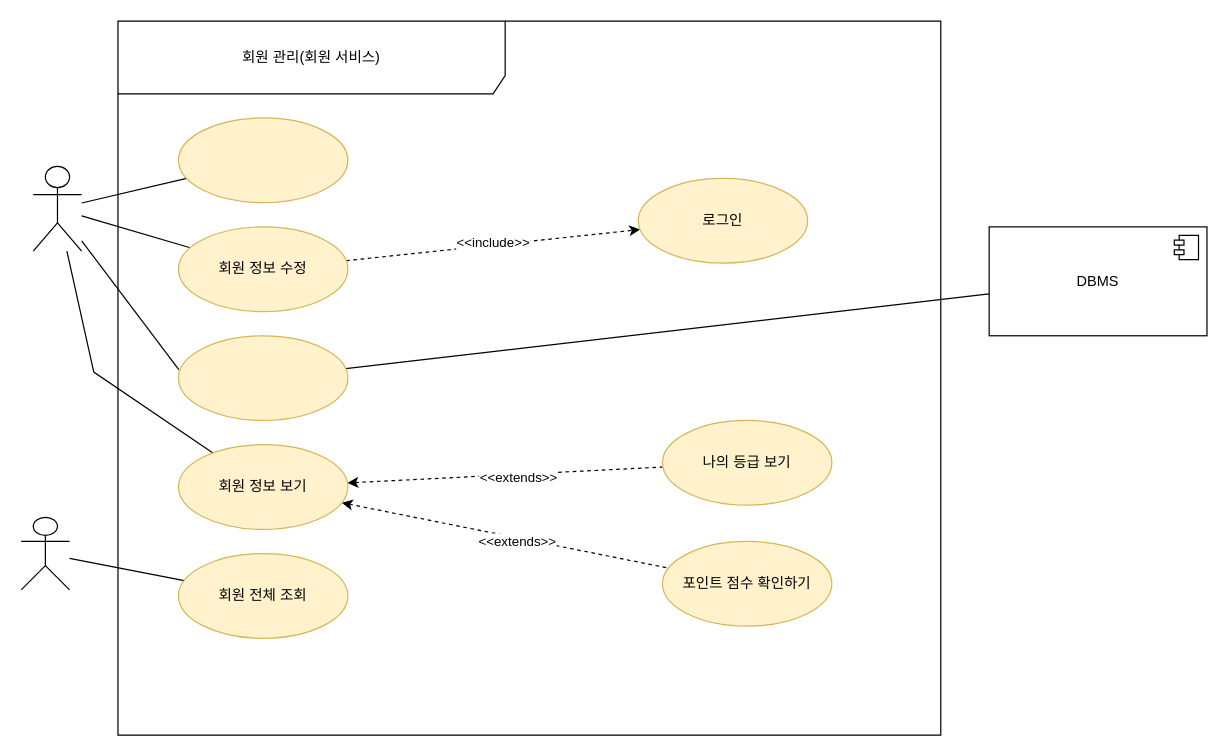
Some shapes in this 1228 by 756 pixel diagram are drawn without their labels. The shapes that lost their labels are listed below. From the top down, each one's box as (x1, y1, x2, y2) in pixels, then its label:
(177, 117, 348, 203): 회원 등록
(32, 165, 82, 251): 이용자
(177, 335, 348, 420): 회원 탈퇴
(20, 516, 70, 590): 관리자
